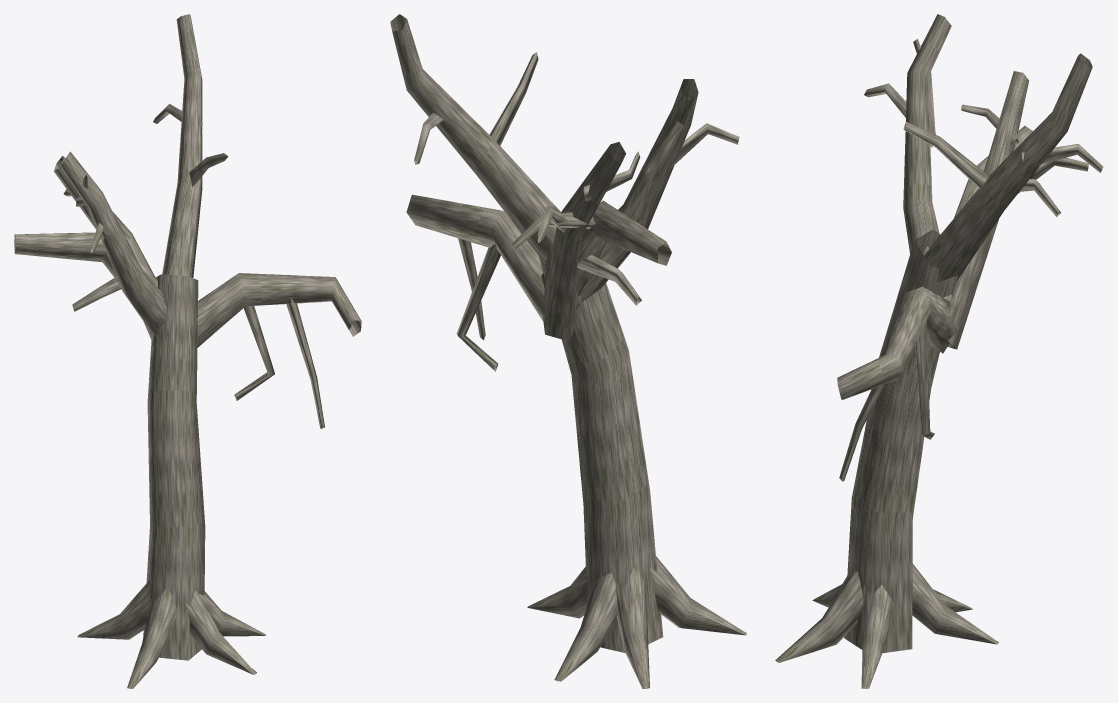
The model's file is DeadTree_5_LOD1.gltf.
3 views of the same model, side by side, from view 1: azimuth 30°, elevation 25°; view 2: azimuth 150°, elevation 25°; view 3: azimuth 270°, elevation 25° (orthographic). The views are drawn at different scales.
Visible parts, largest first — view 1: DeadTree_5_LOD1; view 2: DeadTree_5_LOD1; view 3: DeadTree_5_LOD1.
Part boxes in pixels (x1,y1,x2,y2): DeadTree_5_LOD1: (14,14,361,688); DeadTree_5_LOD1: (390,14,746,688); DeadTree_5_LOD1: (775,14,1103,688).
Size of the model in its own units: 9.09 by 17.76 by 8.24.
1 material, 1 textured.
